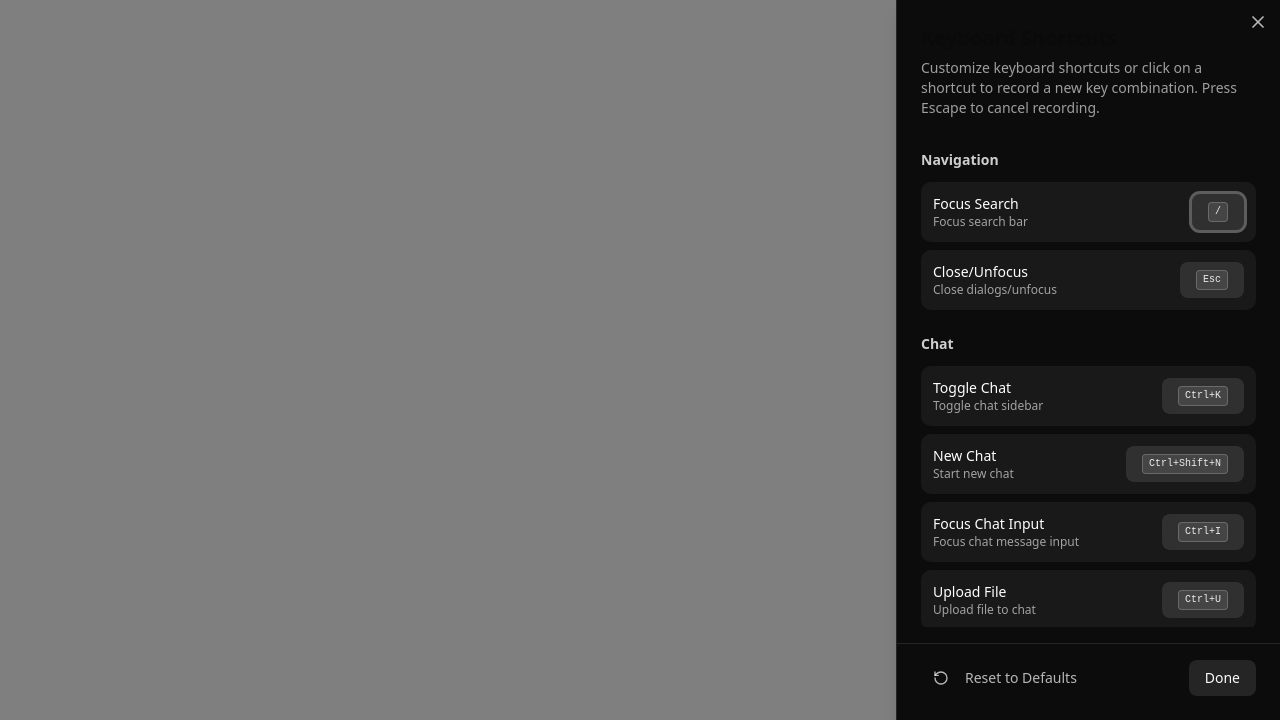
Test: ShortcutsDialog › should cancel recording when Escape is pressed
The width and height of the screenshot is (1280, 720).
Click the button "/" at point(1218, 212), box [1192, 194, 1244, 230]
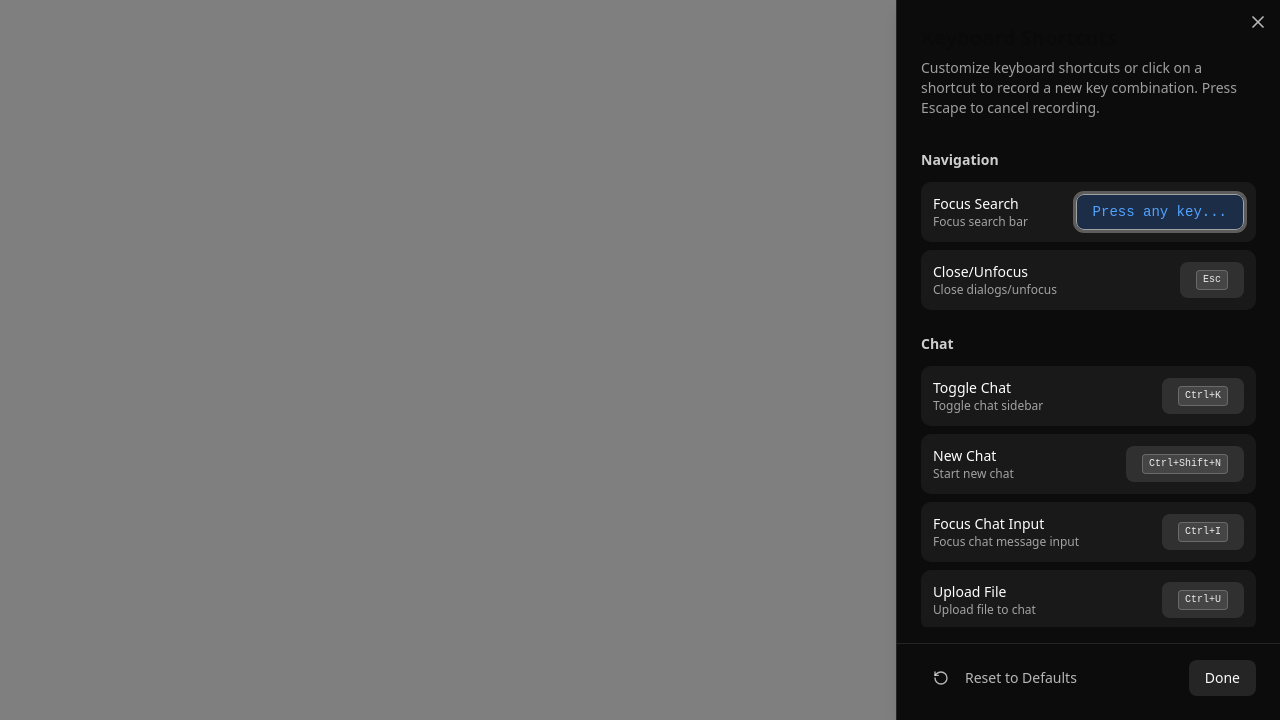
Now the button "Press any key..." is shown, box [1076, 194, 1244, 230]
Press Escape
Press Escape
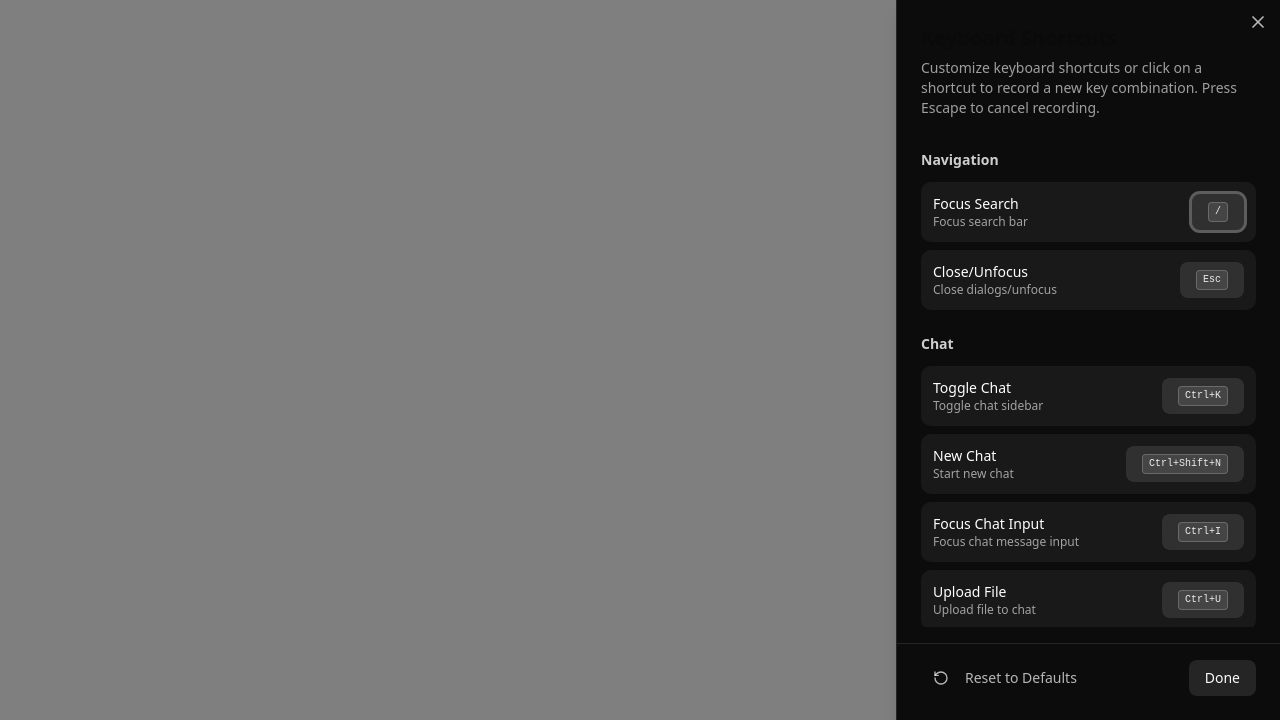
Now the button "Press any key..." is gone
